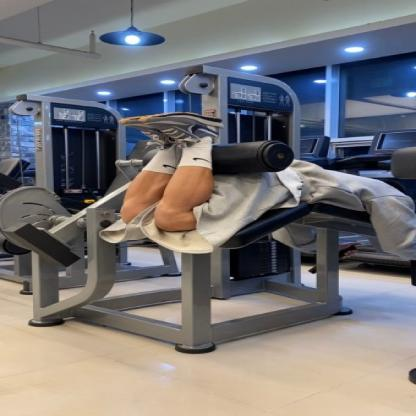reg curl machine: (0, 62, 416, 358)
